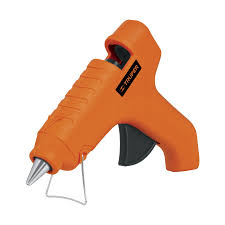Arma Falsa: (23, 16, 202, 185)
